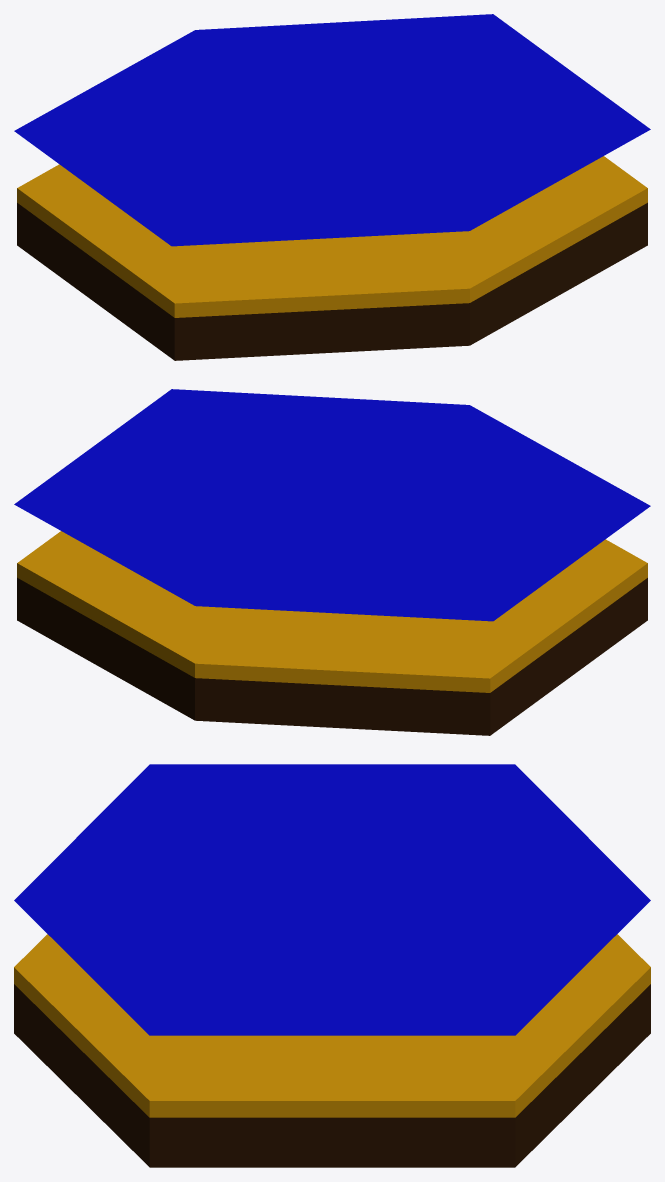
The model's file is sea.obj.
The picture shows the model from 3 angles, top to bottom: view 1: azimuth 30°, elevation 25°; view 2: azimuth 150°, elevation 25°; view 3: azimuth 270°, elevation 25°; orthographic projection. The views are drawn at different scales.
Parts seen in each view (by area): view 1: Cylinder; view 2: Cylinder; view 3: Cylinder.
Boxes of the visible parts, box(x1,y1,x2,y2) form: Cylinder: box(14, 14, 650, 360); Cylinder: box(14, 389, 650, 735); Cylinder: box(14, 764, 650, 1167).
Size of the model in its own units: 2.01 by 0.4628 by 2.
